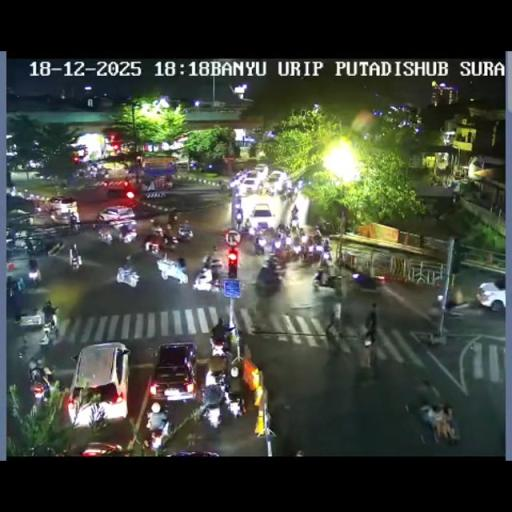Car: (66, 342, 130, 426), (148, 342, 198, 403), (38, 195, 78, 223), (477, 281, 506, 311), (350, 270, 382, 294), (249, 202, 274, 230), (77, 441, 124, 455), (104, 178, 136, 198), (236, 170, 262, 194), (96, 206, 134, 222), (266, 170, 287, 191), (254, 163, 268, 177)
Motorcycle: (253, 222, 333, 296), (412, 382, 458, 444), (144, 404, 170, 450), (155, 255, 188, 284), (426, 293, 448, 332), (354, 343, 374, 384), (208, 326, 234, 354), (39, 308, 60, 342), (29, 371, 50, 405), (199, 400, 222, 429), (193, 259, 214, 290), (315, 270, 340, 296), (254, 274, 280, 298), (206, 354, 228, 381), (116, 262, 139, 287), (325, 321, 343, 352), (444, 298, 473, 317), (265, 250, 286, 276), (116, 222, 138, 244), (143, 232, 164, 254), (225, 394, 243, 419), (302, 243, 322, 265), (207, 276, 231, 294), (246, 306, 262, 332), (17, 334, 32, 360), (161, 230, 180, 250), (176, 222, 194, 242), (6, 276, 26, 294), (28, 266, 42, 288), (98, 226, 114, 244), (69, 244, 81, 268), (282, 183, 298, 201), (254, 234, 267, 254), (238, 220, 254, 236), (316, 220, 334, 234), (320, 243, 332, 263), (272, 236, 284, 253), (150, 222, 164, 236), (26, 238, 36, 256), (94, 166, 109, 178), (277, 222, 289, 236), (292, 240, 302, 256), (168, 208, 178, 224), (290, 216, 300, 230), (283, 234, 293, 248), (218, 180, 228, 193), (70, 218, 79, 232), (313, 231, 322, 245), (300, 232, 309, 246), (75, 168, 86, 179), (8, 228, 16, 243), (61, 179, 67, 190)
